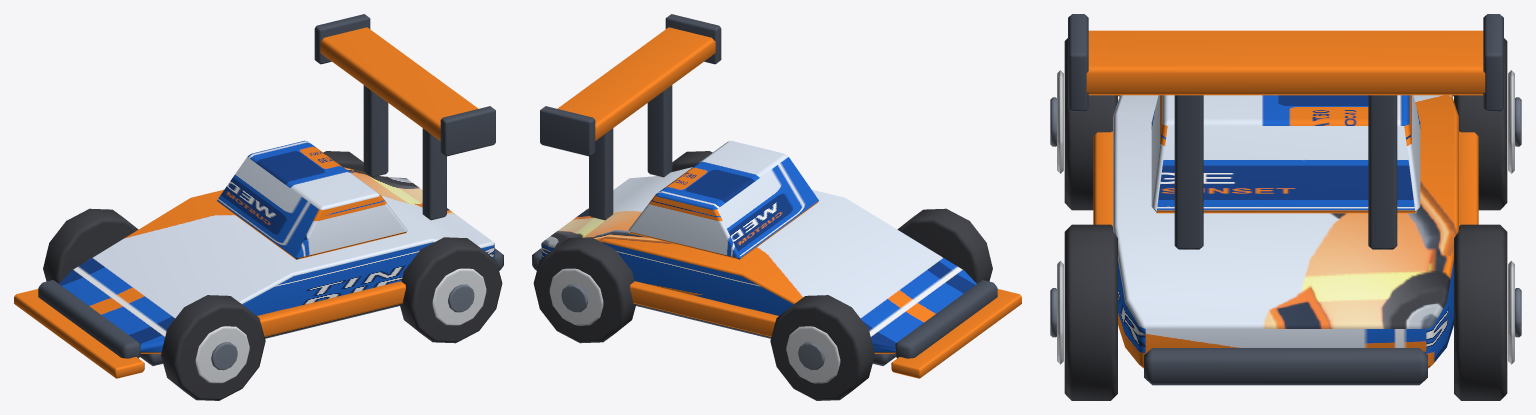
The picture shows the model from 3 angles, left to right: view 1: azimuth 30°, elevation 25°; view 2: azimuth 150°, elevation 25°; view 3: azimuth 270°, elevation 25°; orthographic projection. The views are drawn at different scales.
Parts seen in each view (by area): view 1: TC-02_connected_shell, TC-02_cabin, rear airfoil, Tire, Tire.002, Tire.001, custom side guard, custom chin, front bumper, wing endplate, wing support.001, wing support (+7 smaller); view 2: TC-02_connected_shell, TC-02_cabin, rear airfoil, Tire.001, Tire.003, Tire, custom side guard.001, custom chin, front bumper, wing endplate.001, wing support, wing support.001 (+7 smaller); view 3: TC-02_connected_shell, rear airfoil, TC-02_cabin, rear bumper, Tire.002, Tire.003, wing support, wing support.001, Tire, Tire.001, wing endplate, wing endplate.001 (+6 smaller).
Part boxes in pixels (x1,y1,x2,y2): TC-02_connected_shell: [59, 167, 494, 353]; TC-02_cabin: [217, 140, 407, 259]; rear airfoil: [320, 27, 478, 140]; Tire: [161, 295, 265, 400]; Tire.002: [399, 237, 502, 343]; Tire.001: [43, 208, 138, 283]; custom side guard: [257, 281, 405, 336]; custom chin: [14, 289, 144, 378]; front bumper: [38, 280, 140, 358]; wing endplate: [440, 106, 495, 156]; wing support.001: [363, 85, 388, 177]; wing support: [422, 128, 446, 220]; TC-02_connected_shell: [541, 167, 976, 353]; TC-02_cabin: [628, 140, 818, 259]; rear airfoil: [557, 27, 715, 140]; Tire.001: [770, 295, 874, 400]; Tire.003: [533, 237, 636, 343]; Tire: [897, 208, 992, 283]; custom side guard.001: [630, 281, 778, 336]; custom chin: [891, 289, 1021, 378]; front bumper: [895, 280, 997, 358]; wing endplate.001: [540, 106, 595, 156]; wing support: [647, 85, 672, 177]; wing support.001: [589, 128, 613, 220]; TC-02_connected_shell: [1113, 95, 1458, 368]; rear airfoil: [1086, 30, 1485, 95]; TC-02_cabin: [1151, 95, 1420, 213]; rear bumper: [1144, 348, 1427, 385]; Tire.002: [1064, 224, 1117, 400]; Tire.003: [1454, 224, 1507, 400]; wing support: [1174, 95, 1203, 249]; wing support.001: [1368, 95, 1397, 249]; Tire: [1064, 38, 1117, 210]; Tire.001: [1454, 38, 1507, 210]; wing endplate: [1068, 14, 1088, 111]; wing endplate.001: [1483, 14, 1503, 111].
Bounding box in the file's own units: 369 × 199 × 229.
